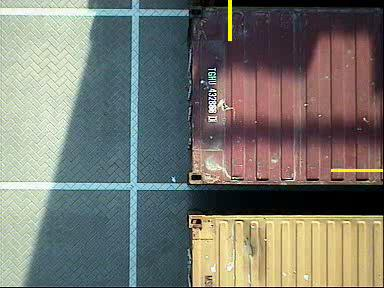groundmarker_2: (113, 8, 169, 43), (109, 180, 163, 210)
